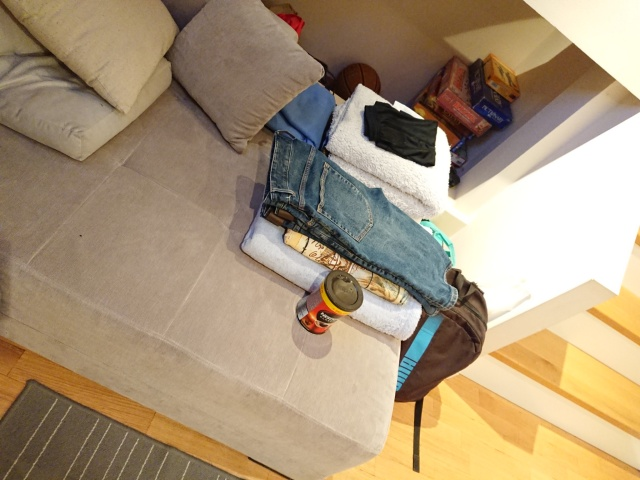Nescafe Classic 225g: (293, 268, 366, 337)
